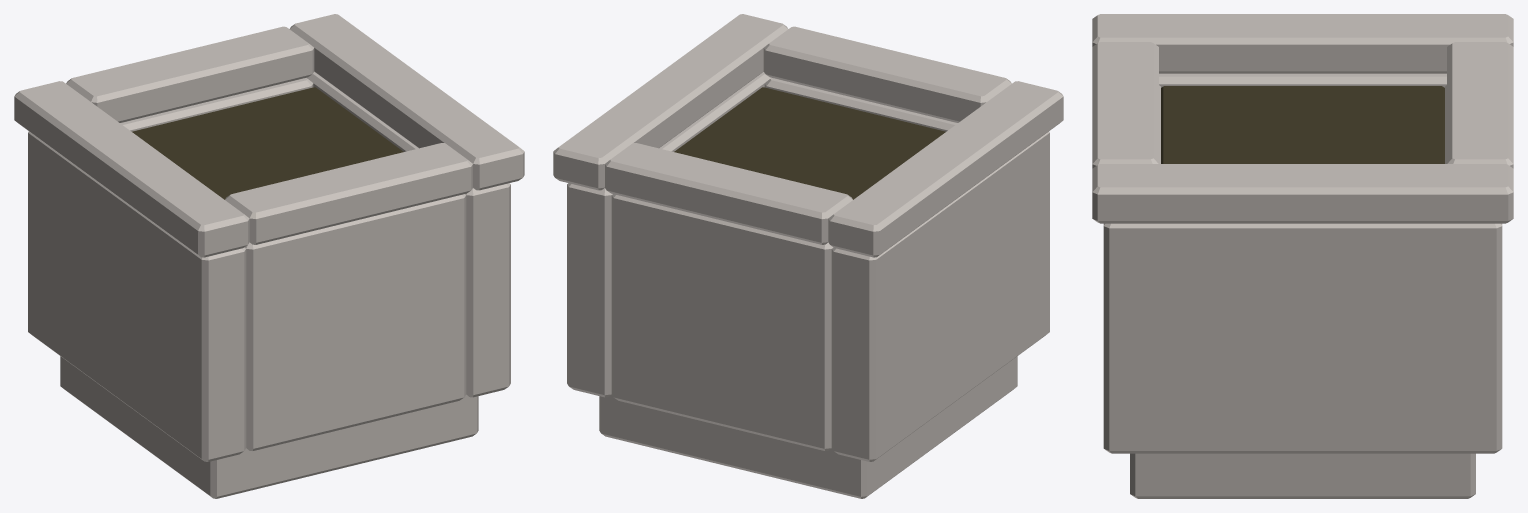
File: desktop.glb
The picture shows the model from 3 angles, left to right: view 1: azimuth 30°, elevation 25°; view 2: azimuth 150°, elevation 25°; view 3: azimuth 270°, elevation 25°; orthographic projection. The views are drawn at different scales.
Bounding box in the file's own units: 0.95 × 0.815 × 0.95.
1 material, 1 textured.
